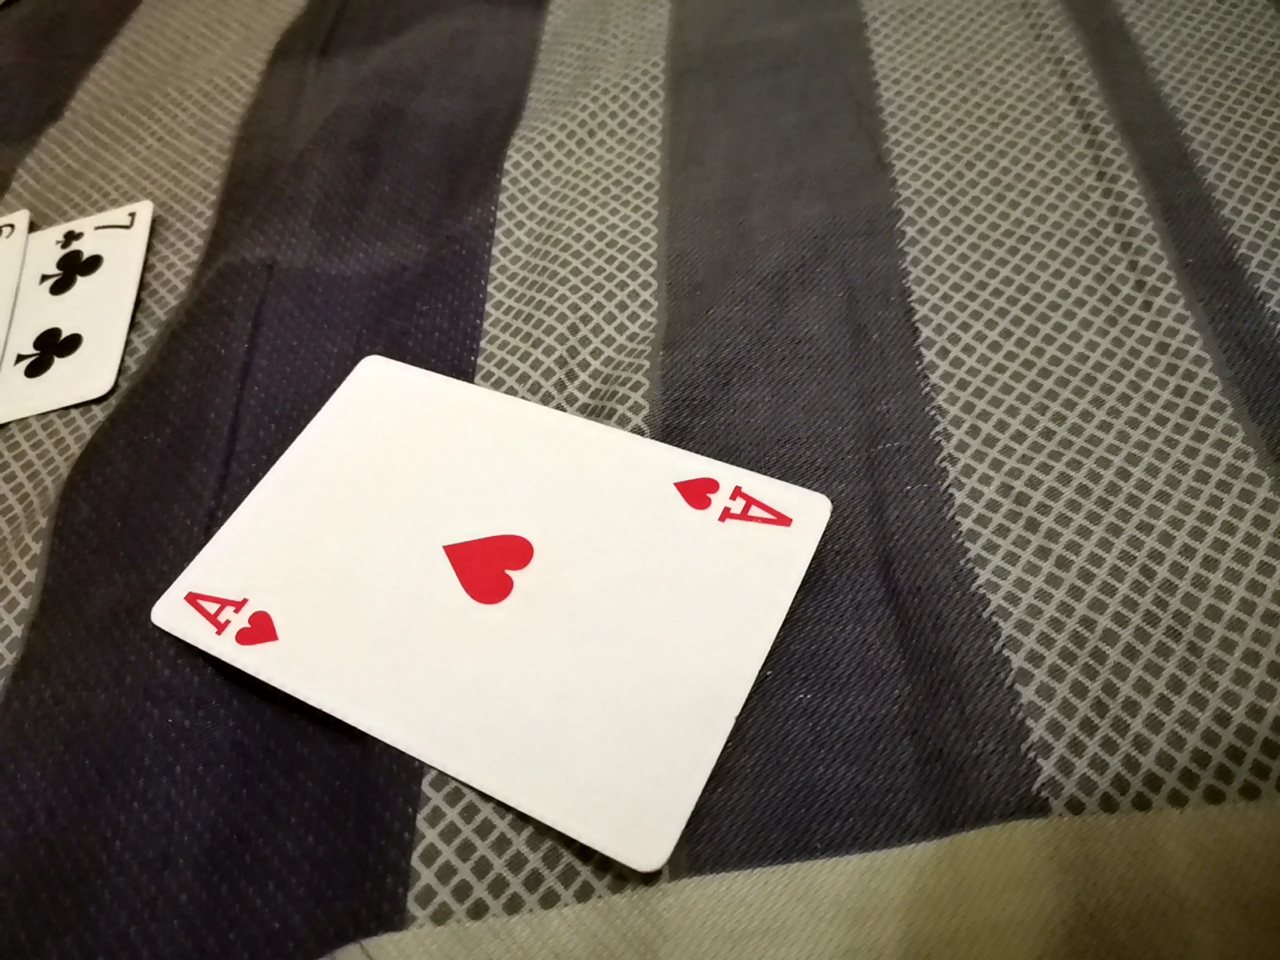hx a: (144, 385, 849, 925)
